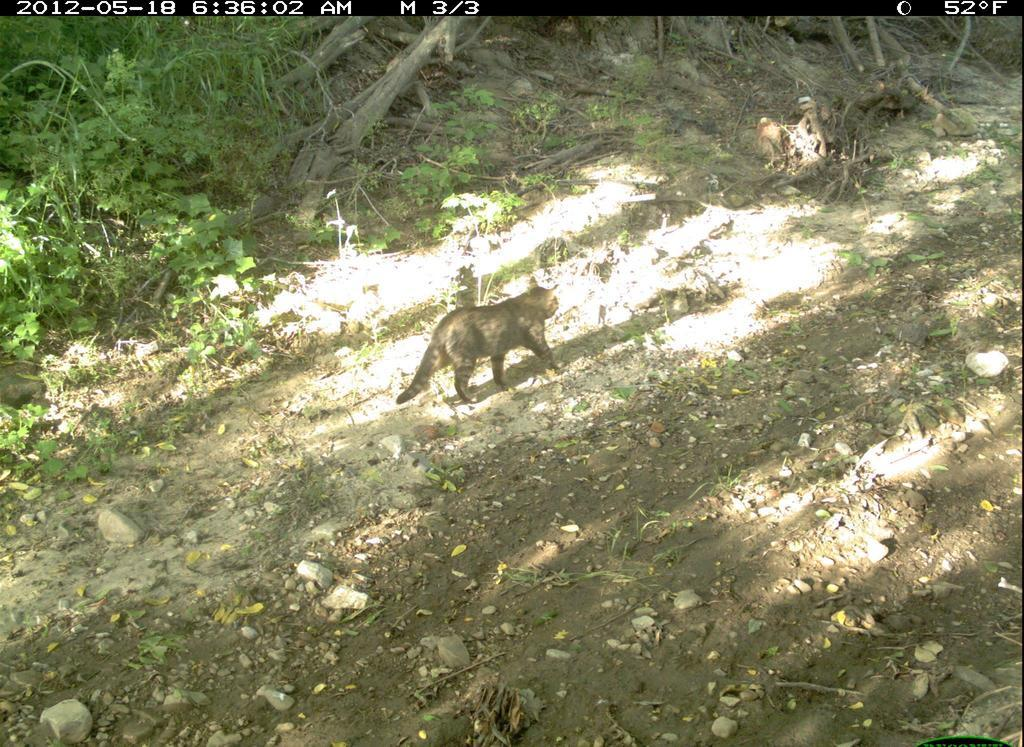cat: (393, 280, 569, 411)
